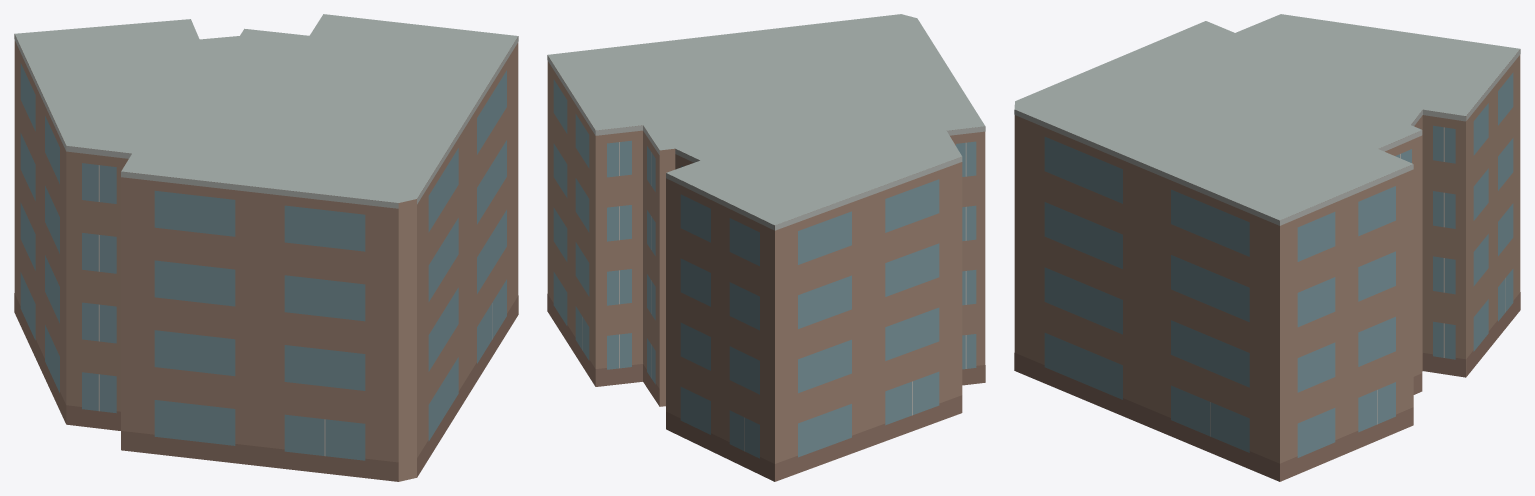
The model's file is survey-upis-32703310.glb.
3 renders of one model, left to right at view 1: azimuth 30°, elevation 25°; view 2: azimuth 150°, elevation 25°; view 3: azimuth 270°, elevation 25°, orthographic. The views are drawn at different scales.
Visible parts, largest first — view 1: survey-upis-32703310.tmp; view 2: survey-upis-32703310.tmp; view 3: survey-upis-32703310.tmp.
Boxes of the visible parts, x1,y1,x2,y2 form: survey-upis-32703310.tmp: [14, 14, 518, 481]; survey-upis-32703310.tmp: [547, 14, 985, 481]; survey-upis-32703310.tmp: [1014, 14, 1520, 481].
Size of the model in its own units: 20 by 11.8 by 20.71.
